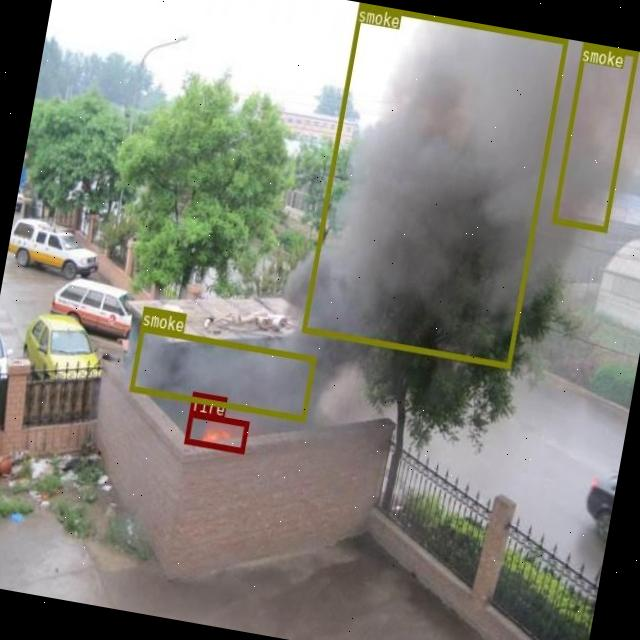fire: (184, 410, 248, 452)
smoke: (300, 1, 567, 366), (128, 325, 316, 420), (550, 42, 638, 230)
